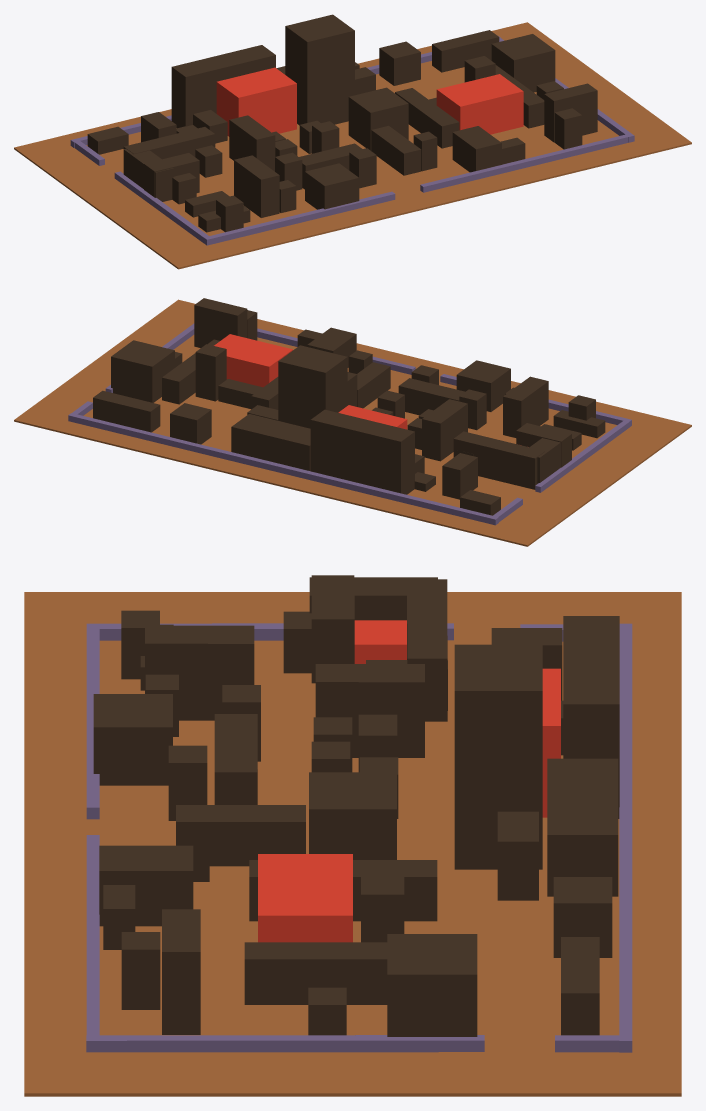
The model's file is EscenarioCum.fbx.
3 renders of one model, top to bottom at view 1: azimuth 30°, elevation 25°; view 2: azimuth 150°, elevation 25°; view 3: azimuth 270°, elevation 25°, orthographic. The views are drawn at different scales.
Parts seen in each view (by area): view 1: Cube, Cube.027, Cube.030, Cube.043, Cube.044, Cube.001, Cube.016, Cube.025, Cube.022, Cube.046, Cube.019, Cube.020 (+31 smaller); view 2: Cube, Cube.030, Cube.027, Cube.051, Cube.029, Cube.034, Cube.016, Cube.044, Cube.025, Cube.010, Cube.019, Cube.023 (+23 smaller); view 3: Cube, Cube.027, Cube.016, Cube.029, Cube.044, Cube.015, Cube.030, Cube.025, Cube.001, Cube.010, Cube.022, Cube.049 (+32 smaller).
Part boxes in pixels (x1,y1,x2,y2): Cube: [14, 22, 691, 269]; Cube.027: [285, 14, 354, 125]; Cube.030: [171, 45, 275, 128]; Cube.043: [216, 67, 296, 136]; Cube.044: [436, 74, 523, 134]; Cube.001: [348, 87, 408, 150]; Cube.016: [491, 34, 555, 92]; Cube.025: [234, 155, 279, 217]; Cube.022: [305, 163, 359, 209]; Cube.046: [420, 134, 628, 192]; Cube.019: [544, 83, 597, 142]; Cube.020: [452, 126, 501, 172]; Cube: [14, 299, 691, 546]; Cube.030: [310, 409, 414, 494]; Cube.027: [278, 345, 347, 428]; Cube.051: [68, 413, 498, 525]; Cube.029: [231, 414, 310, 471]; Cube.034: [453, 431, 544, 489]; Cube.016: [111, 340, 174, 402]; Cube.044: [214, 334, 292, 387]; Cube.025: [503, 376, 548, 437]; Cube.010: [422, 399, 467, 461]; Cube.019: [194, 298, 247, 347]; Cube.023: [93, 390, 160, 432]; Cube: [24, 592, 681, 1096]; Cube.027: [454, 644, 542, 869]; Cube.016: [387, 934, 477, 1036]; Cube.029: [547, 758, 618, 896]; Cube.044: [258, 854, 352, 942]; Cube.015: [244, 942, 387, 1004]; Cube.030: [563, 616, 619, 818]; Cube.025: [145, 625, 254, 720]; Cube.001: [309, 772, 396, 859]; Cube.010: [315, 664, 424, 757]; Cube.022: [93, 694, 172, 785]; Cube.049: [86, 1035, 484, 1052].
Bounding box in the file's own units: 33185 × 6605 × 18395.
